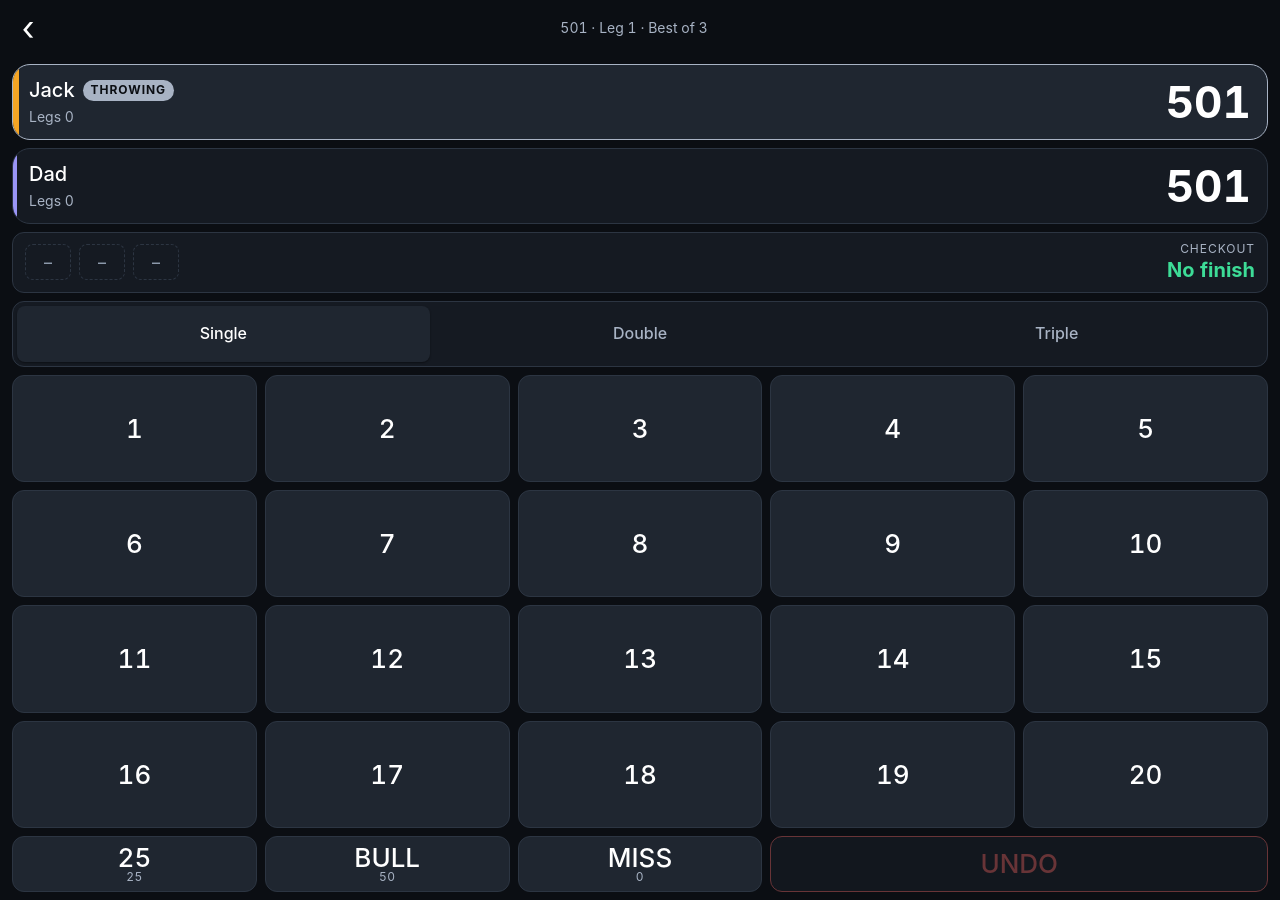
a refusal from the server › explains a 409 by its reason and offers no pointless retry
The width and height of the screenshot is (1280, 900).
Click the button named "20, single": (1146,774) [1023,721,1268,828]
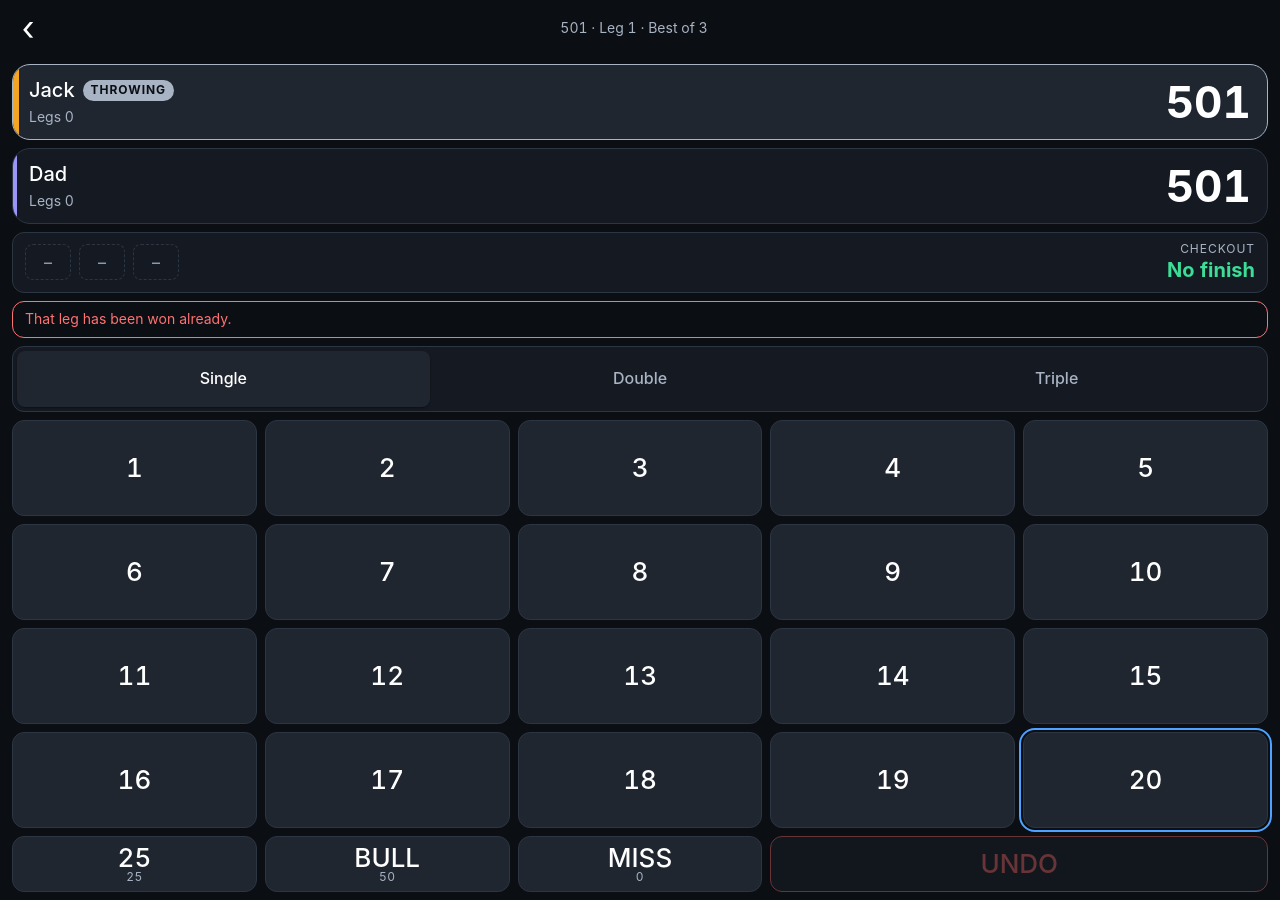
Now the message reads "That leg has been won already.", box [25,310,232,327]
